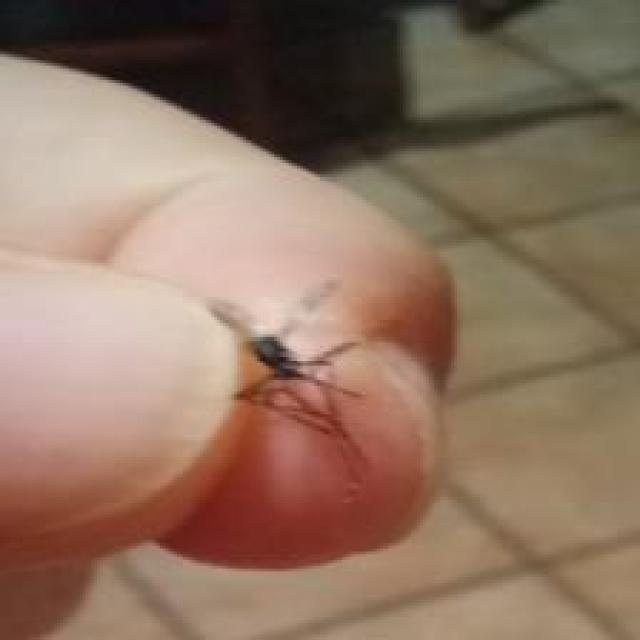Aedes albopictus: (204, 284, 373, 496)
